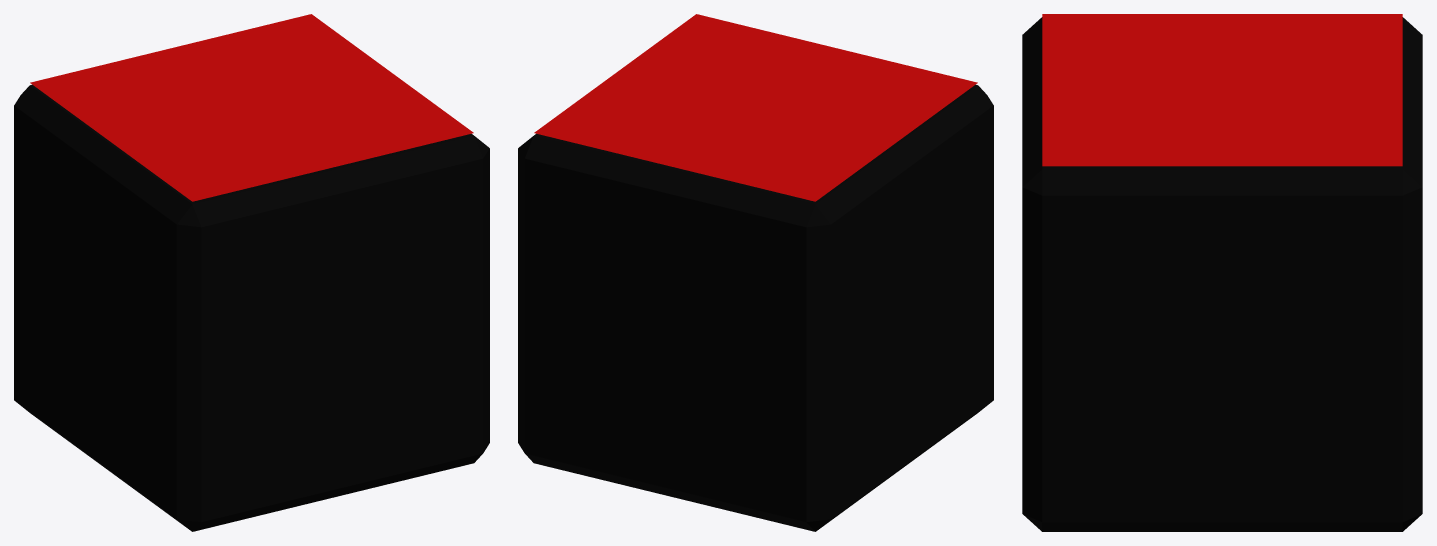
File: rubic5.obj
3 views of the same model, side by side, from view 1: azimuth 30°, elevation 25°; view 2: azimuth 150°, elevation 25°; view 3: azimuth 270°, elevation 25° (orthographic). The views are drawn at different scales.
Visible parts, largest first — view 1: Cube.009_Cube.010; view 2: Cube.009_Cube.010; view 3: Cube.009_Cube.010.
Part boxes in pixels (box(x1,y1,x2,y2)): Cube.009_Cube.010: box(14, 14, 489, 531); Cube.009_Cube.010: box(518, 14, 993, 531); Cube.009_Cube.010: box(1022, 14, 1422, 531).
Bounding box in the file's own units: 2 × 2.02 × 2.
